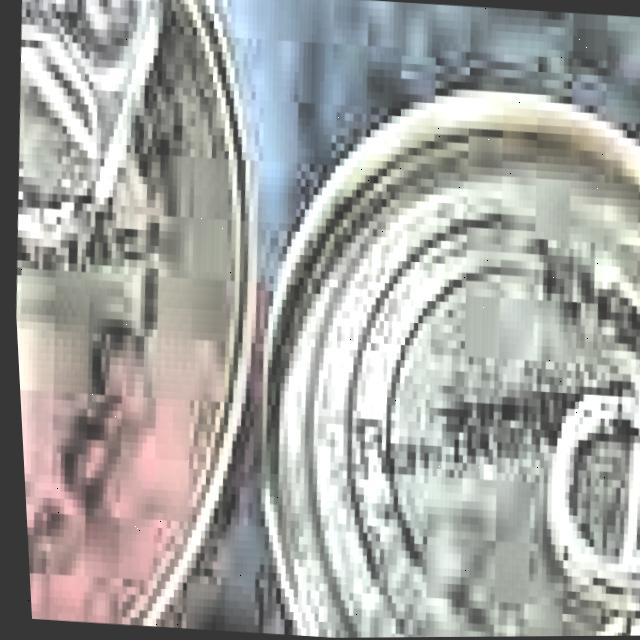metal: (219, 44, 640, 639), (0, 0, 296, 634)
